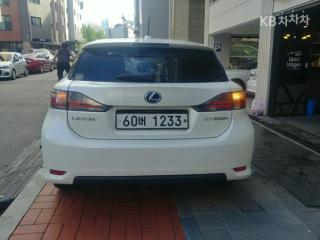0: (130, 115, 138, 127)
1: (151, 115, 159, 127)
2: (159, 115, 167, 127)
3: (174, 114, 182, 127), (167, 116, 174, 126)
6: (122, 114, 130, 128)
버: (138, 115, 146, 127)
